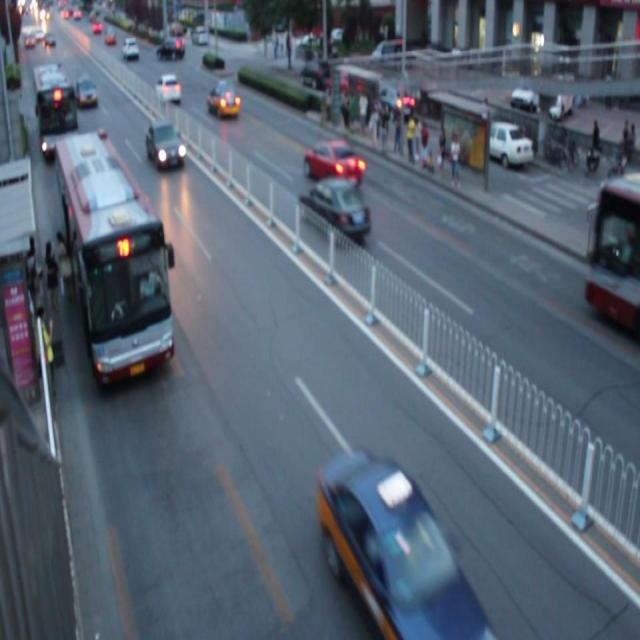car: (321, 450, 482, 640), (298, 177, 371, 244), (303, 138, 362, 187), (146, 118, 184, 171), (208, 80, 239, 120), (75, 72, 99, 109), (155, 73, 181, 106)
van: (54, 135, 172, 382), (582, 172, 640, 338), (32, 64, 79, 160)
